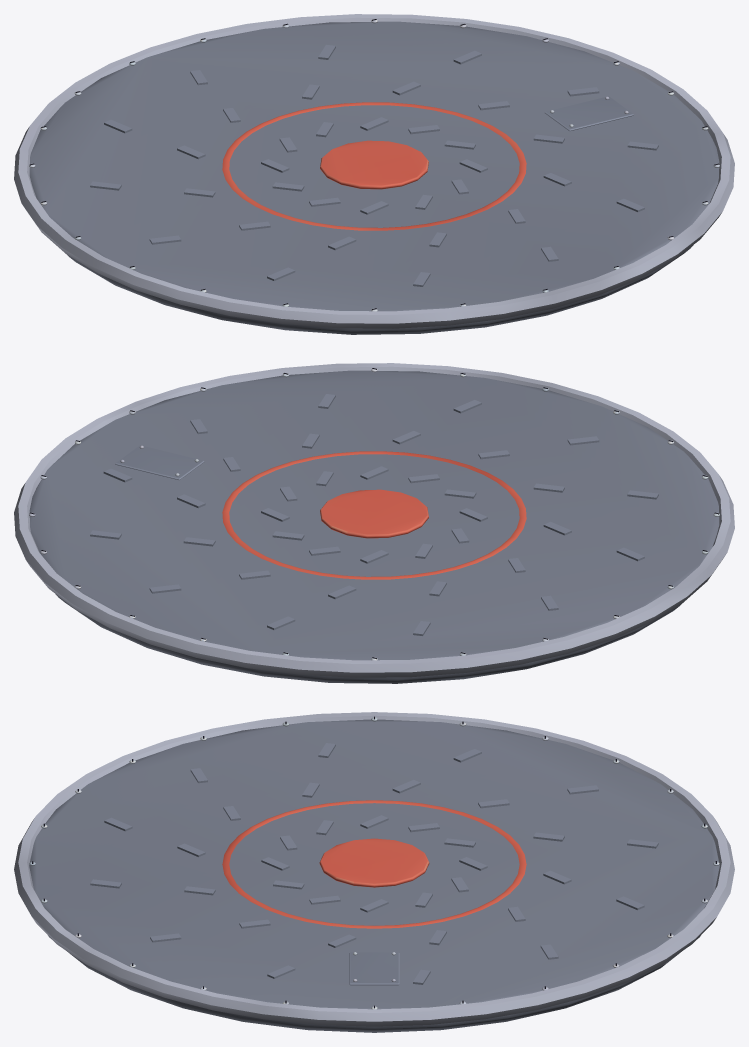
File: SM_Dealer_DisplayTurntable.fbx
3 renders of one model, top to bottom at view 1: azimuth 30°, elevation 25°; view 2: azimuth 150°, elevation 25°; view 3: azimuth 270°, elevation 25°, orthographic.
Parts seen in each view (by area): view 1: SM_Dealer_DisplayTurntable; view 2: SM_Dealer_DisplayTurntable; view 3: SM_Dealer_DisplayTurntable.
Part boxes in pixels (x1,y1,x2,y2): SM_Dealer_DisplayTurntable: (14,14,734,334); SM_Dealer_DisplayTurntable: (14,363,734,683); SM_Dealer_DisplayTurntable: (14,712,734,1032).
Bounding box in the file's own units: 291 × 11.74 × 291.
